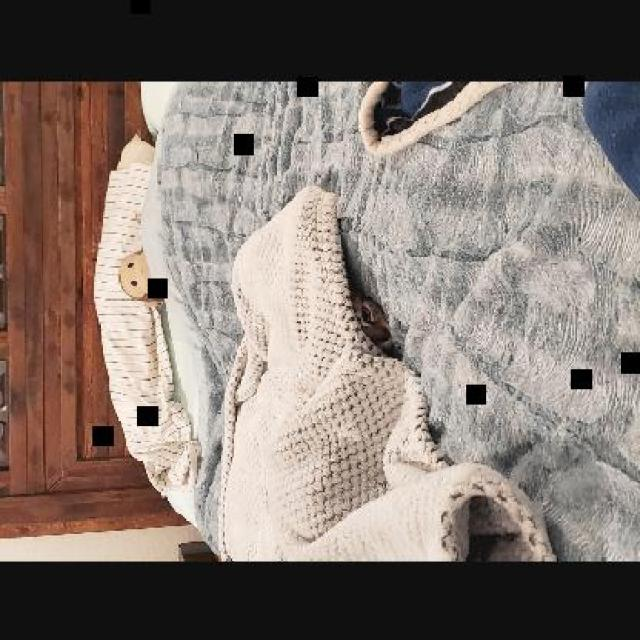unauthorized: (349, 289, 402, 360)
